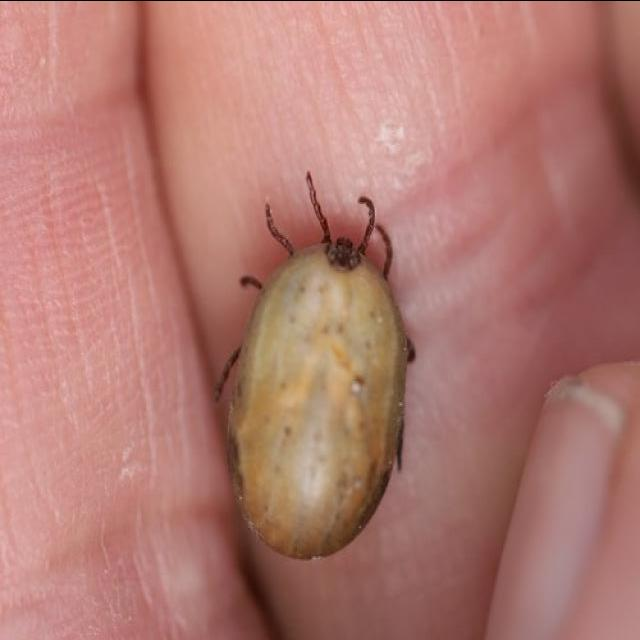Dermacentor Reticulatus-F-Fed: (215, 170, 416, 558)
